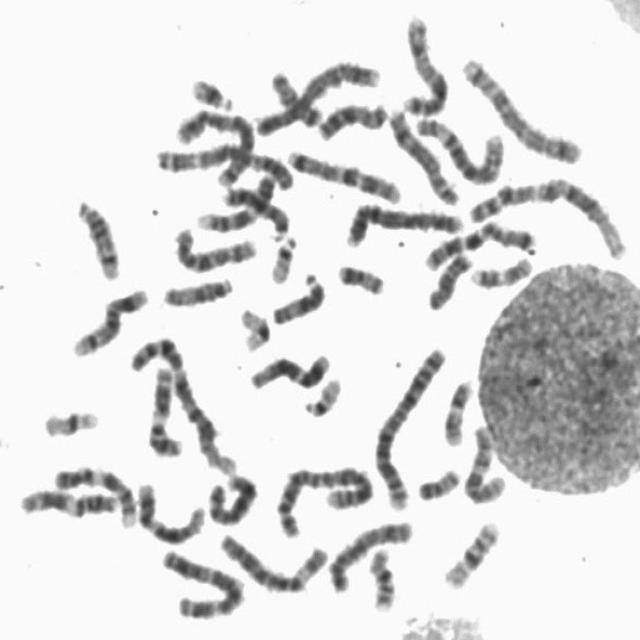A1: (124, 328, 241, 478), (463, 169, 632, 262)
A2: (368, 338, 450, 512), (271, 455, 378, 540)
A3: (148, 135, 297, 192), (156, 540, 250, 621)
B4: (250, 51, 384, 137), (340, 195, 467, 248)
B5: (458, 48, 587, 166), (169, 100, 258, 190)
C10: (168, 219, 262, 274), (459, 416, 512, 505)
C11: (142, 356, 186, 458), (13, 480, 123, 520)
C12: (131, 474, 208, 547), (244, 345, 334, 392)
C6: (212, 524, 332, 596), (410, 107, 506, 186)
C7: (282, 141, 406, 205), (418, 213, 540, 272)
C8: (383, 99, 463, 207), (203, 466, 261, 528)
C9: (48, 457, 140, 529), (192, 166, 280, 233)
D13: (217, 179, 292, 242), (312, 92, 392, 142)
D14: (66, 279, 152, 359), (69, 190, 124, 282)
D15: (267, 264, 329, 326), (158, 268, 238, 309)
E16: (438, 511, 504, 591), (364, 541, 399, 613)
E17: (438, 371, 477, 448), (466, 249, 536, 290)
E18: (267, 62, 326, 129), (422, 243, 476, 312)
F19: (38, 399, 104, 440), (234, 299, 274, 354)
F20: (331, 255, 390, 297), (412, 459, 464, 502)
G21: (185, 68, 238, 112)
G22: (298, 368, 346, 418), (266, 228, 301, 284)
X: (323, 511, 418, 595), (397, 7, 452, 118)
